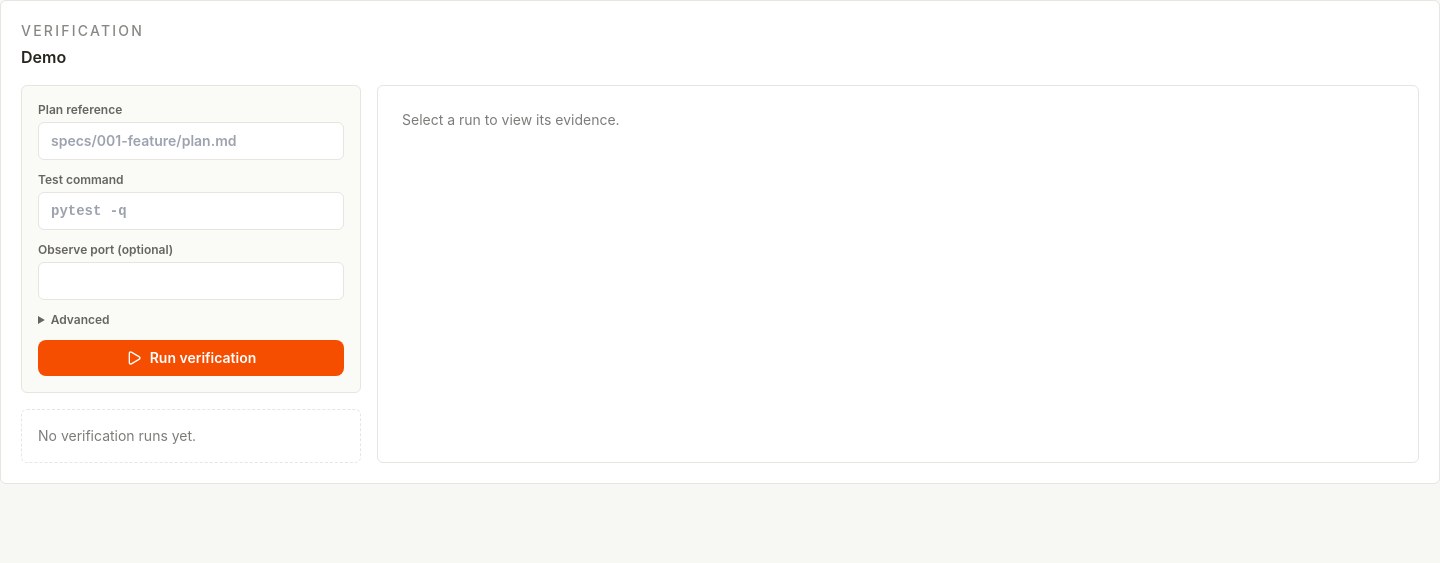
Scenario: VerificationPanel › reports a conflict when a run is already active
The width and height of the screenshot is (1440, 563).
Expected: the text "No verification runs yet." is shown, [21,409,361,463]
In the field labelled "Plan reference": {"x": 191, "y": 141} [38,122,344,160], type "p"
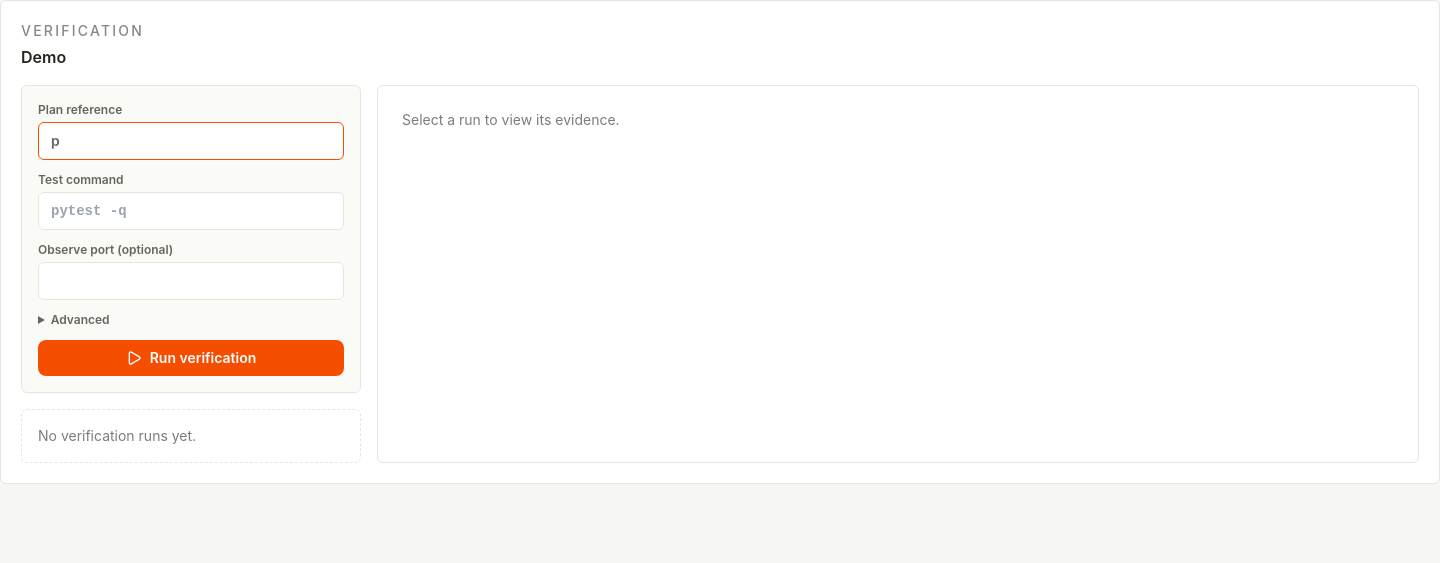
In the field labelled "Test command": {"x": 191, "y": 211} [38,192,344,230], type "t"
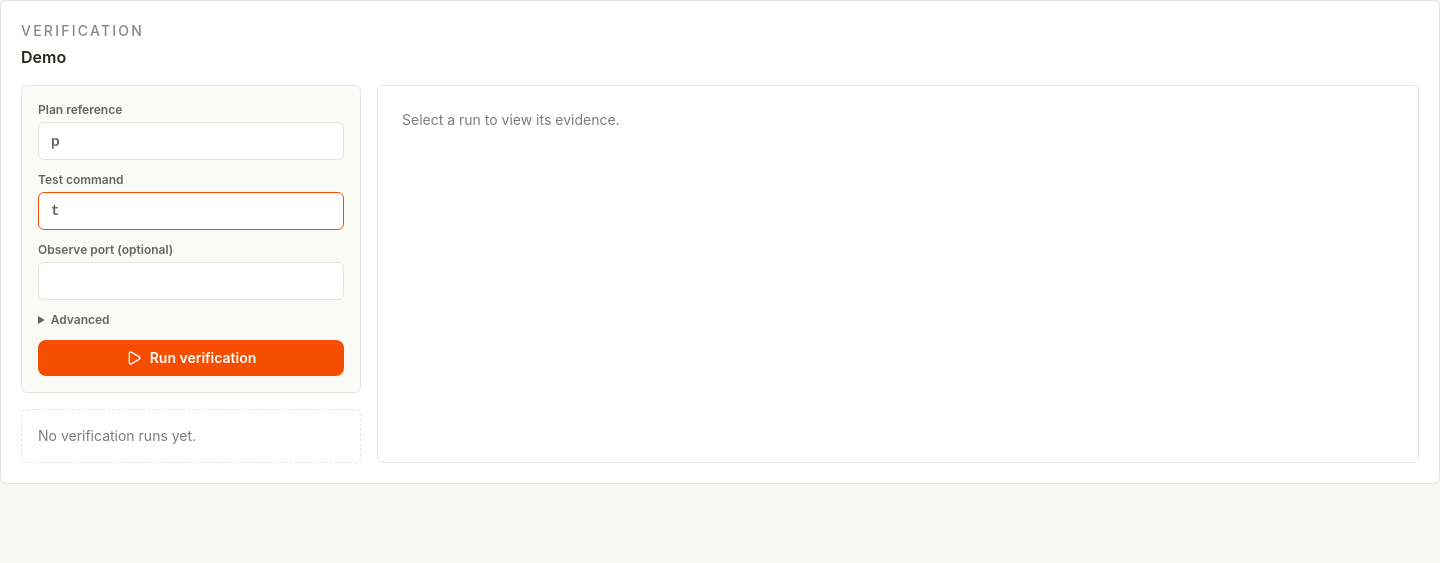
Click the button "Run verification": {"x": 191, "y": 358} [38,340,344,376]
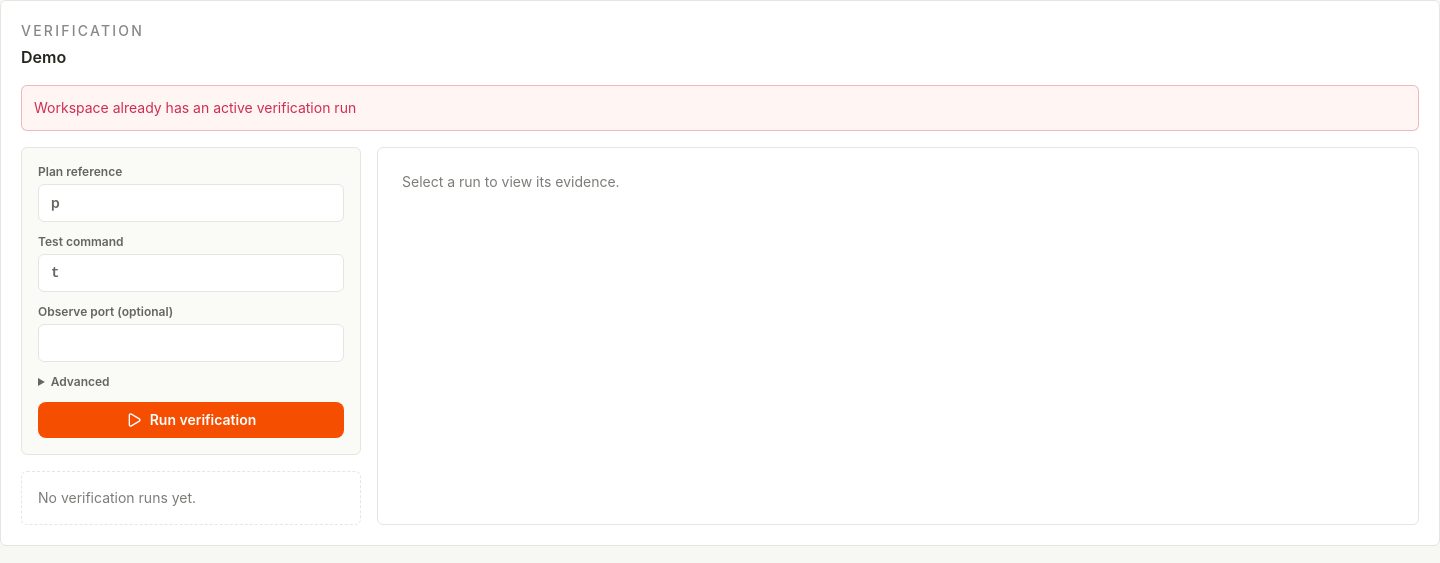
Now the text "Workspace already has an active verification run" is shown, box [21,85,1419,131]
